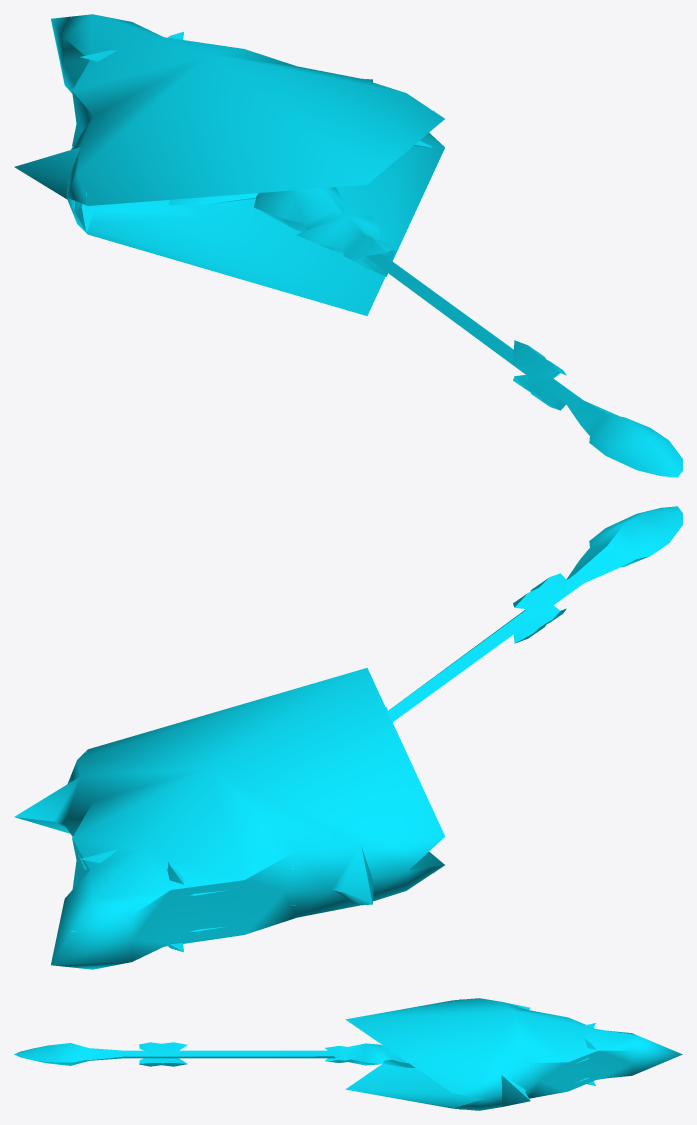
The model's file is efx_scm_silver_wand_s_e_w_eff.glb.
The picture shows the model from 3 angles, top to bottom: view 1: azimuth 30°, elevation 25°; view 2: azimuth 150°, elevation 25°; view 3: azimuth 270°, elevation 25°; orthographic projection. The views are drawn at different scales.
Bounding box in the file's own units: 0.561 × 0.2423 × 1.7.
